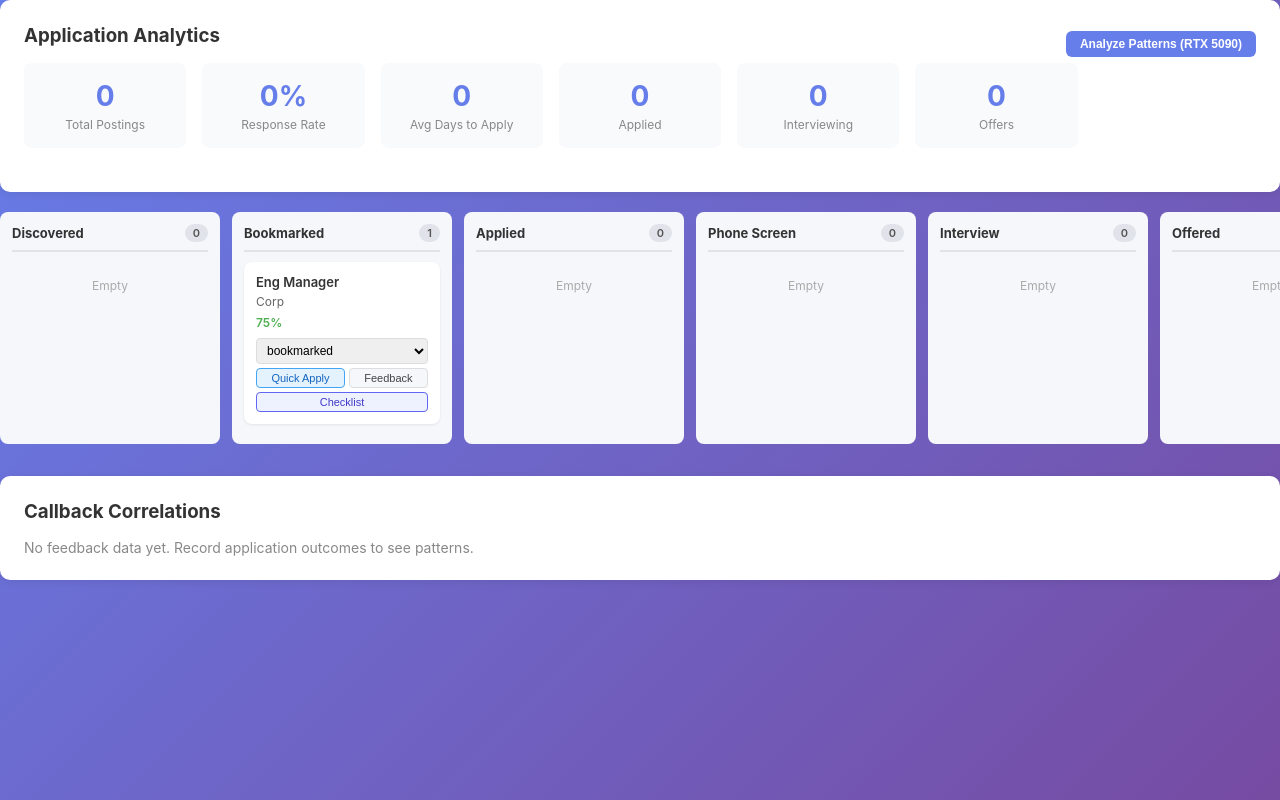
Test case: ApplicationPipeline — Pipeline Integration › moving to applied shows cover letter confirmation dialog
The image size is (1280, 800).
Select "applied" in the dropdown at x=342, y=351, box [256,338,428,364]
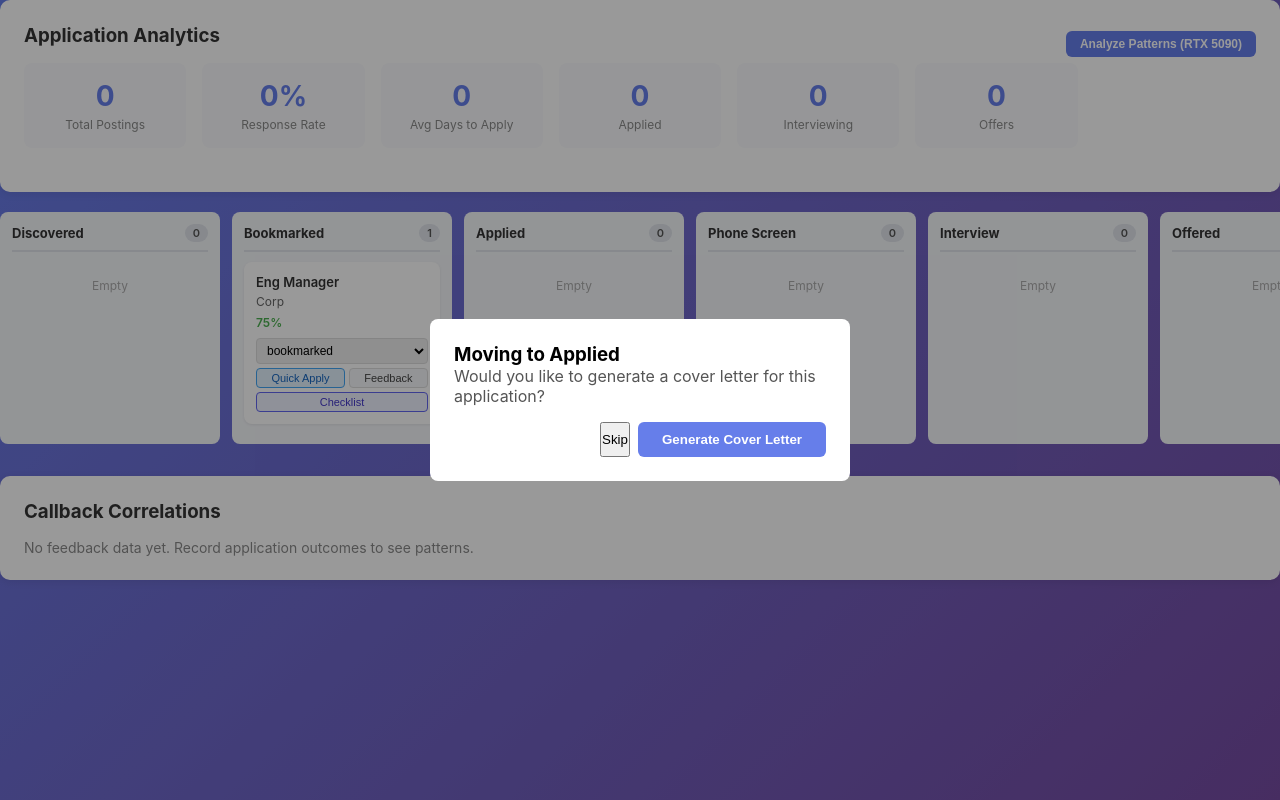
Now the heading "Moving to Applied" is shown, box [454,343,620,366]
Now the button "Generate Cover Letter" is shown, box [638,422,826,457]
Now the button "Skip" is shown, box [600,422,630,457]
